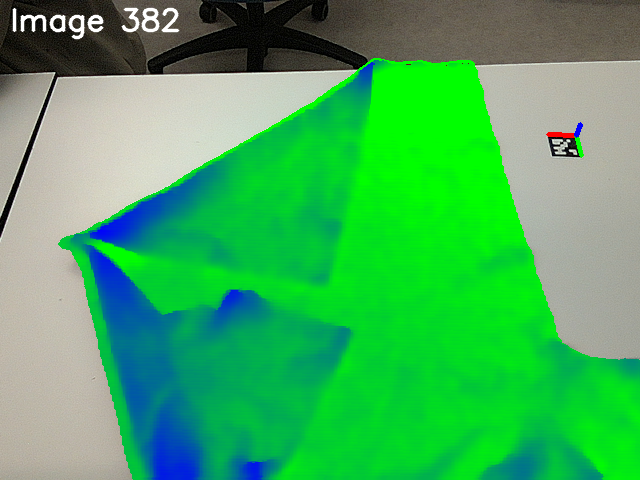V: (280, 227, 348, 295), (306, 305, 368, 369)
